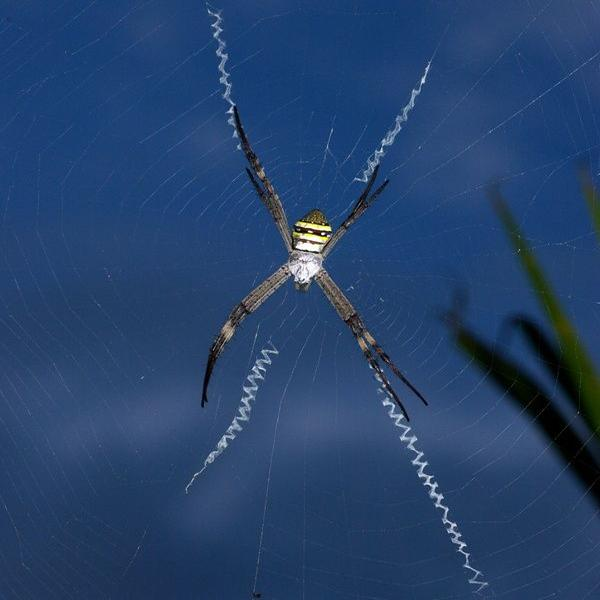St Andrew's Cross Spider: (201, 107, 428, 420)
